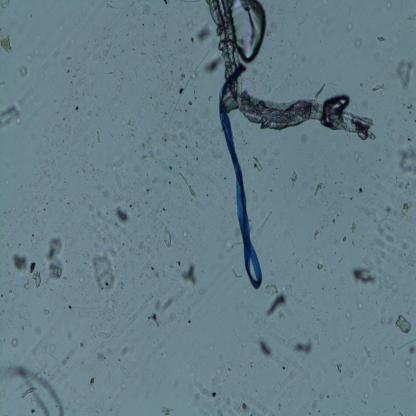Air bubble: (230, 0, 266, 63)
Background material: (28, 115, 79, 187), (188, 371, 267, 415), (154, 108, 202, 172), (10, 362, 66, 415), (83, 203, 125, 255), (58, 50, 96, 106), (145, 62, 175, 106), (94, 24, 121, 71), (134, 0, 179, 27), (91, 251, 115, 294), (126, 228, 158, 260), (46, 233, 66, 283), (263, 285, 290, 322), (174, 67, 196, 112), (175, 168, 198, 208), (117, 188, 142, 224), (393, 58, 416, 92), (28, 192, 52, 223), (393, 144, 416, 176), (107, 158, 128, 190), (0, 100, 23, 128), (82, 156, 101, 189), (97, 293, 121, 318), (140, 256, 163, 282), (239, 303, 262, 329), (124, 114, 140, 151), (352, 266, 380, 287), (221, 228, 242, 253), (196, 20, 214, 48), (377, 263, 398, 287), (147, 298, 163, 329), (179, 261, 198, 287), (203, 52, 225, 74), (379, 225, 395, 255), (138, 139, 155, 165), (147, 172, 174, 188), (58, 194, 79, 214), (292, 336, 312, 357), (396, 196, 412, 222), (12, 251, 29, 275), (358, 203, 378, 223), (162, 292, 181, 313), (94, 346, 113, 366), (394, 314, 411, 336), (114, 206, 131, 227), (256, 339, 274, 358), (117, 336, 130, 362), (35, 341, 56, 357), (394, 176, 412, 194), (162, 226, 175, 250), (397, 334, 416, 350), (0, 36, 15, 56), (84, 108, 104, 123), (250, 154, 264, 175), (312, 179, 326, 200), (383, 202, 395, 226), (370, 372, 382, 396), (180, 12, 196, 30), (381, 305, 394, 327), (72, 267, 86, 287), (288, 167, 300, 190), (117, 364, 133, 380), (30, 273, 44, 291), (96, 328, 112, 343), (269, 379, 284, 395), (30, 228, 41, 249), (226, 266, 241, 281), (177, 226, 193, 240), (314, 83, 328, 99), (15, 65, 28, 82), (159, 402, 174, 416), (0, 283, 14, 298), (350, 148, 364, 163), (401, 100, 414, 116), (6, 197, 18, 214), (92, 125, 101, 146), (359, 391, 370, 407), (403, 292, 413, 309), (371, 85, 385, 97), (138, 47, 150, 61), (19, 274, 29, 290), (362, 344, 372, 360), (294, 257, 306, 270), (61, 353, 72, 367), (16, 319, 26, 334), (80, 251, 90, 266), (286, 367, 296, 382), (402, 238, 412, 252), (33, 325, 43, 339), (153, 352, 167, 362), (64, 326, 74, 340), (24, 52, 34, 66), (328, 81, 338, 95), (266, 52, 273, 71), (372, 34, 388, 42), (336, 359, 344, 375), (348, 326, 357, 340), (28, 262, 37, 276), (368, 169, 378, 181), (88, 374, 97, 387), (300, 130, 308, 144), (309, 399, 319, 410), (70, 102, 81, 112), (346, 20, 355, 32), (185, 33, 194, 45), (61, 380, 71, 390), (407, 344, 416, 355), (5, 176, 12, 189), (41, 306, 50, 316), (356, 185, 365, 195), (10, 336, 19, 346), (350, 222, 358, 233), (166, 161, 174, 172), (276, 400, 282, 414), (403, 358, 412, 367), (14, 239, 22, 249), (338, 232, 346, 242), (33, 290, 43, 298), (354, 38, 362, 48), (286, 338, 294, 348), (286, 64, 296, 72), (266, 26, 272, 39), (128, 44, 136, 53), (383, 0, 391, 9), (318, 392, 326, 401), (268, 268, 276, 277), (406, 15, 416, 22), (317, 263, 324, 273), (200, 285, 205, 298), (313, 228, 318, 241), (64, 303, 72, 311), (184, 316, 192, 324), (78, 358, 86, 366), (344, 310, 352, 318), (80, 338, 85, 350), (301, 53, 307, 63), (263, 70, 270, 78), (356, 301, 363, 309), (107, 406, 114, 414), (331, 217, 337, 226), (268, 255, 274, 264), (121, 380, 126, 390), (118, 283, 125, 290), (408, 136, 415, 143), (351, 238, 357, 246), (267, 88, 273, 96), (348, 3, 352, 15), (161, 205, 166, 214), (151, 42, 156, 50), (0, 232, 5, 240), (222, 174, 227, 182), (168, 264, 174, 270), (392, 347, 396, 356), (204, 191, 210, 197), (316, 248, 322, 254), (334, 212, 341, 217), (208, 95, 212, 103), (294, 54, 298, 62), (348, 195, 354, 200), (310, 304, 315, 310), (360, 82, 365, 88), (394, 176, 398, 183), (341, 187, 344, 196), (49, 286, 53, 292), (146, 187, 150, 193), (285, 76, 288, 84), (316, 316, 320, 322), (338, 258, 343, 262), (398, 411, 402, 416), (268, 188, 273, 192), (335, 180, 339, 185), (327, 394, 330, 400), (281, 366, 285, 370), (280, 39, 284, 43), (318, 410, 321, 414), (393, 405, 396, 409), (402, 253, 406, 256), (404, 118, 408, 121), (378, 158, 382, 161), (340, 179, 342, 184), (309, 412, 311, 416), (414, 118, 416, 122), (334, 287, 336, 290), (334, 251, 336, 254), (332, 270, 333, 274), (290, 74, 292, 76), (343, 197, 345, 199), (322, 288, 324, 290)
Cotton: (213, 0, 379, 140), (210, 65, 264, 291)
Glass filter fibre: (261, 210, 273, 229), (0, 77, 7, 88)
